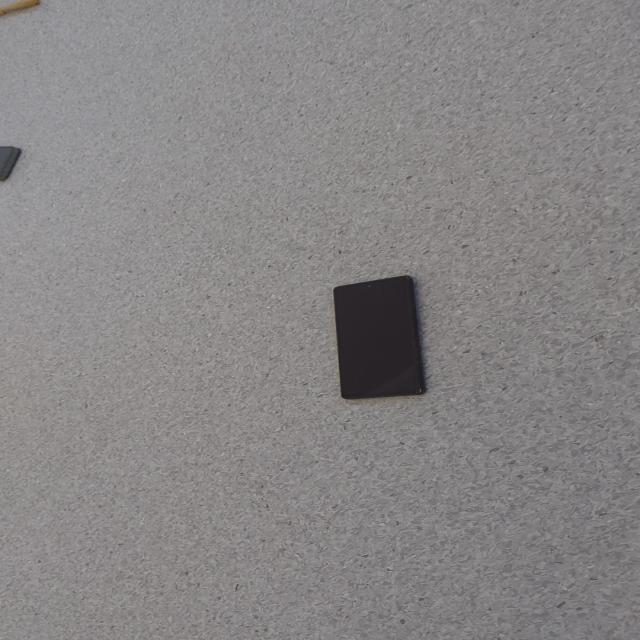phone: (331, 274, 426, 400)
